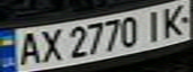0: (118, 14, 145, 47)
2: (63, 22, 90, 60)
7: (84, 20, 106, 55), (103, 17, 124, 52)
A: (12, 29, 45, 68)
I: (139, 7, 169, 42)
K: (157, 2, 193, 38)
X: (33, 26, 66, 64)
